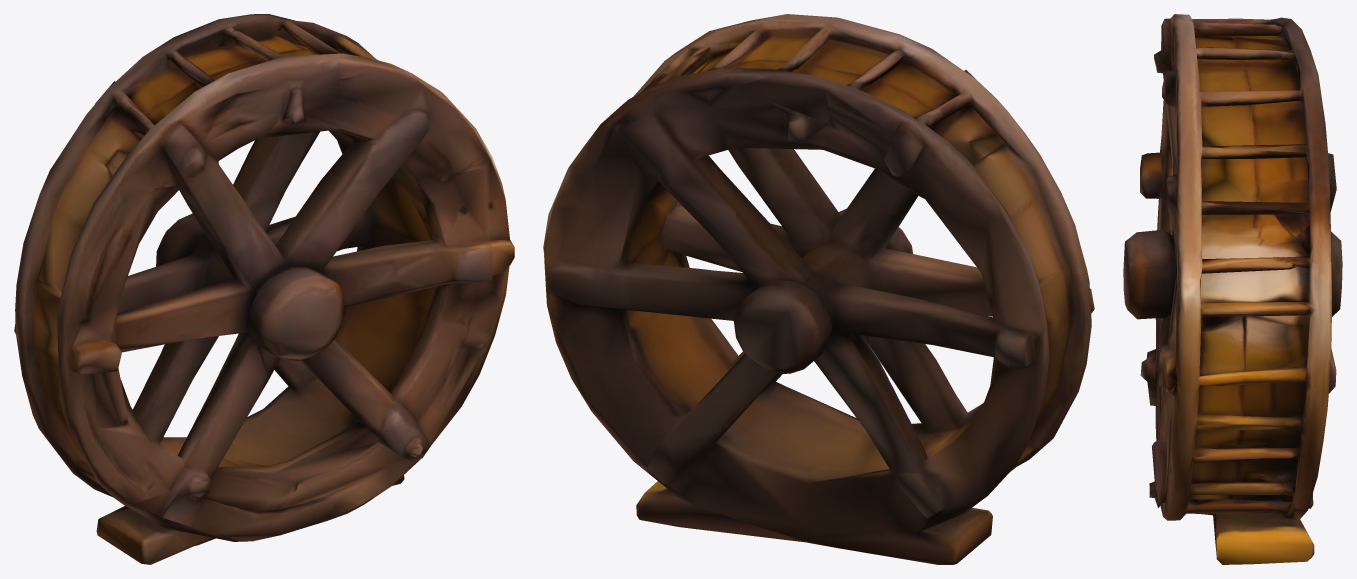
The model's file is bld_watermill_wheel.glb.
The picture shows the model from 3 angles, left to right: view 1: azimuth 30°, elevation 25°; view 2: azimuth 150°, elevation 25°; view 3: azimuth 270°, elevation 25°; orthographic projection. The views are drawn at different scales.
Visible parts, largest first — view 1: tripo_node_42d3742c-a1b1-4a7e-a40f-bdf36d173993; view 2: tripo_node_42d3742c-a1b1-4a7e-a40f-bdf36d173993; view 3: tripo_node_42d3742c-a1b1-4a7e-a40f-bdf36d173993.
Boxes of the visible parts, left/top/right/bottom form: tripo_node_42d3742c-a1b1-4a7e-a40f-bdf36d173993: left=14, top=14, right=514, bottom=564; tripo_node_42d3742c-a1b1-4a7e-a40f-bdf36d173993: left=543, top=14, right=1094, bottom=564; tripo_node_42d3742c-a1b1-4a7e-a40f-bdf36d173993: left=1123, top=14, right=1342, bottom=564.
Bounding box in the file's own units: 0.4344 × 0.4247 × 0.1848.
1 material, 1 textured.
